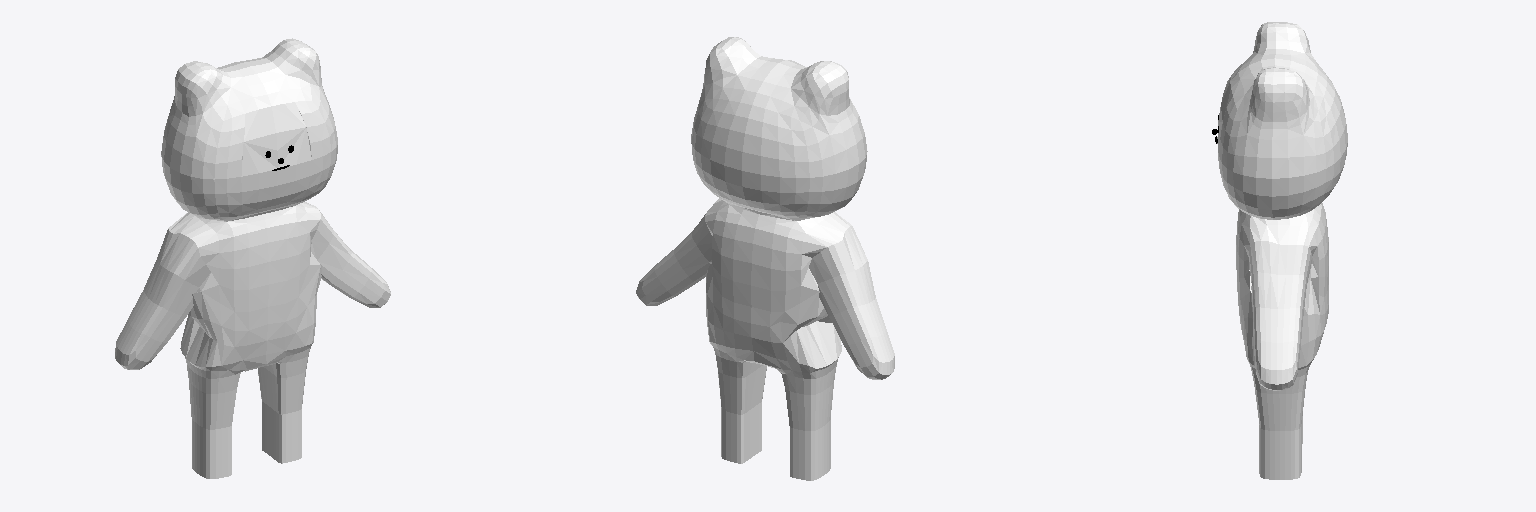
3 views of the same model, side by side, from view 1: azimuth 30°, elevation 25°; view 2: azimuth 150°, elevation 25°; view 3: azimuth 270°, elevation 25° (orthographic).
Visible parts, largest first — view 1: 球.000; view 2: 球.000; view 3: 球.000.
Boxes of the visible parts, x1=… form: 球.000: x1=115, y1=38, x2=390, y2=478; 球.000: x1=636, y1=37, x2=894, y2=480; 球.000: x1=1212, y1=22, x2=1347, y2=479.
Size of the model in its own units: 1.25 by 1.87 by 0.5661.
Materials: 2 (1 with a texture image).